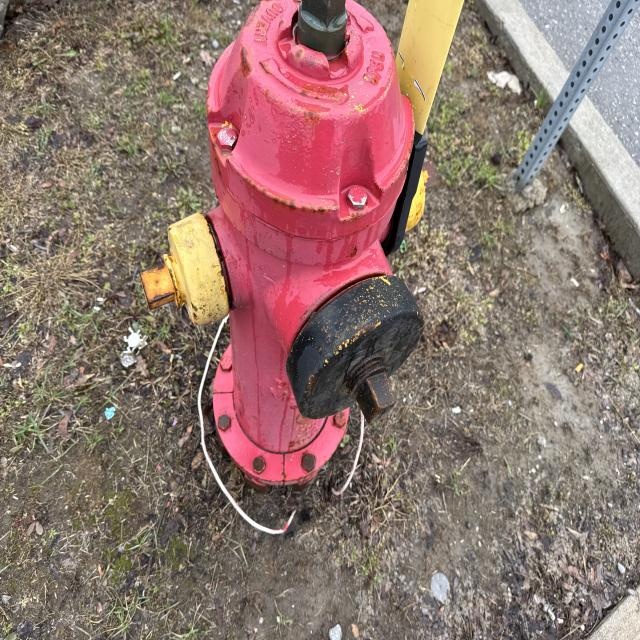Fire hydrant: (138, 1, 440, 496)
